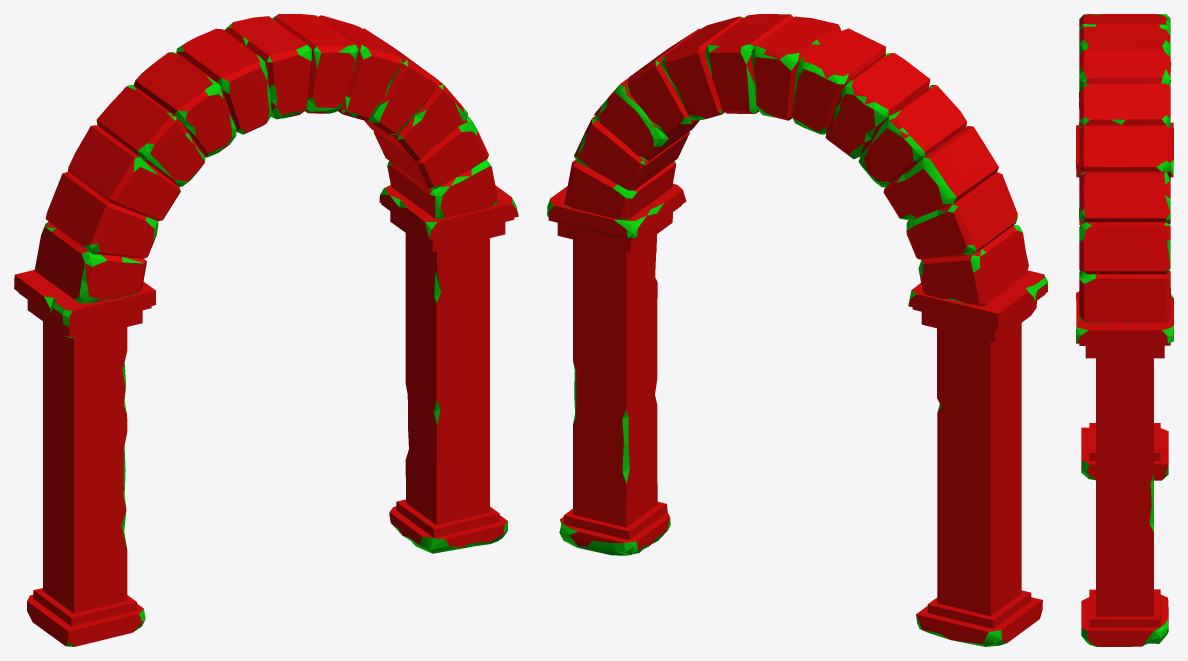
The model's file is DungeonDoor1_Frame.fbx.
3 renders of one model, left to right at view 1: azimuth 30°, elevation 25°; view 2: azimuth 150°, elevation 25°; view 3: azimuth 270°, elevation 25°, orthographic. The views are drawn at different scales.
Parts seen in each view (by area): view 1: DungeonDoor1_Frame; view 2: DungeonDoor1_Frame; view 3: DungeonDoor1_Frame.
Boxes of the visible parts, box(x1,y1,x2,y2) form: DungeonDoor1_Frame: box(14, 14, 518, 646); DungeonDoor1_Frame: box(547, 14, 1047, 646); DungeonDoor1_Frame: box(1076, 14, 1173, 646).
Size of the model in its own units: 280 by 55.66 by 320.
